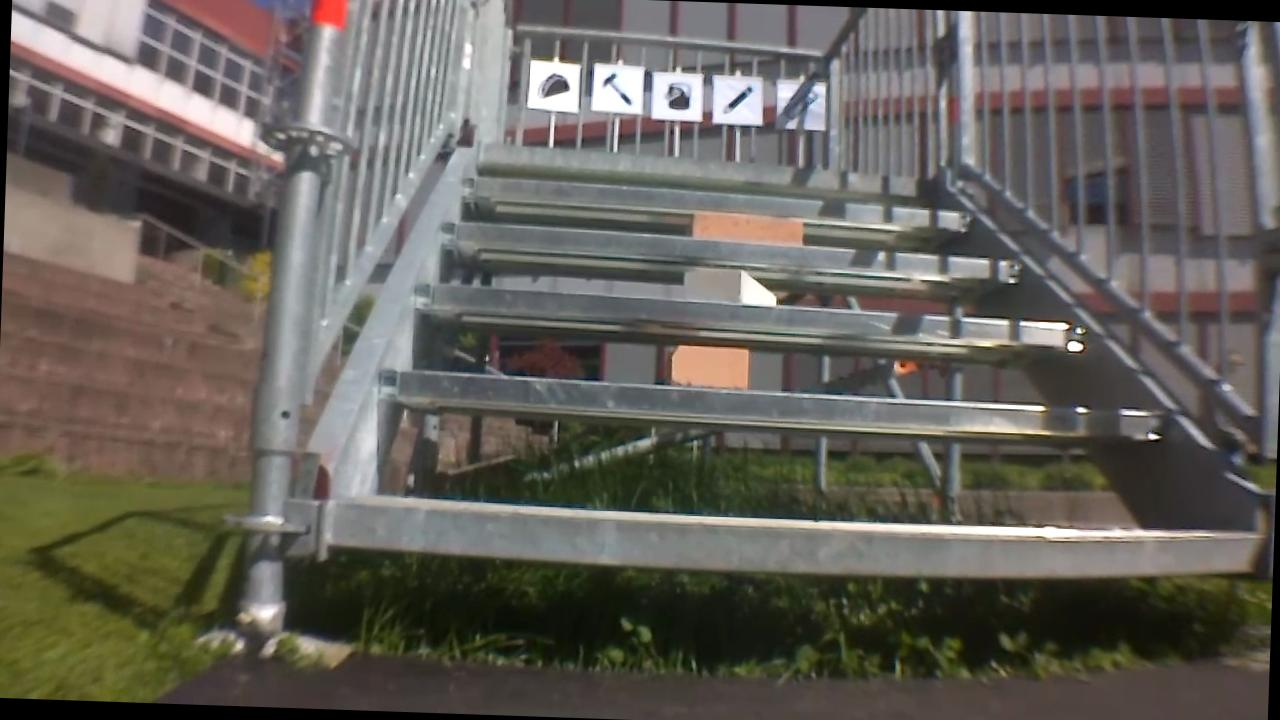brick: (652, 340, 754, 392), (673, 268, 790, 308), (690, 213, 807, 246)
edge: (316, 496, 1274, 587), (386, 373, 1182, 451), (449, 221, 1029, 280), (419, 294, 1092, 341), (481, 135, 942, 196), (455, 180, 976, 231)
hammer: (597, 65, 634, 108)
pencil: (723, 85, 755, 116)
ruler: (781, 89, 824, 126)
steps: (294, 137, 1280, 577)
taco: (537, 74, 568, 100)
